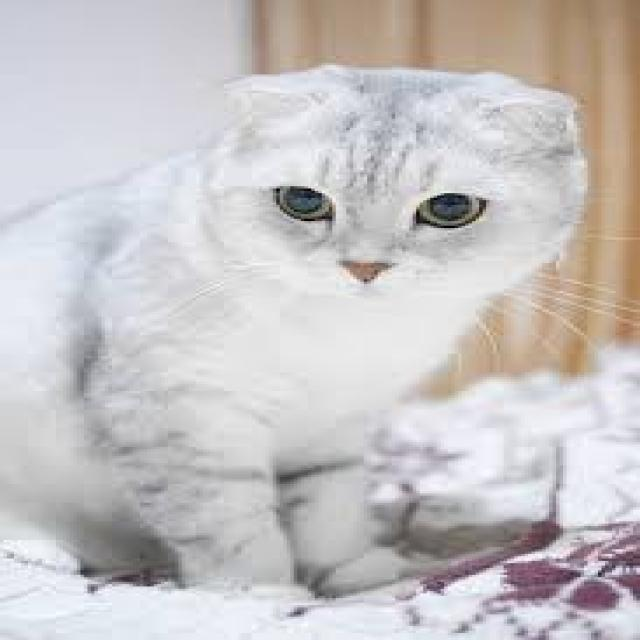cat-face: (104, 13, 605, 377)
